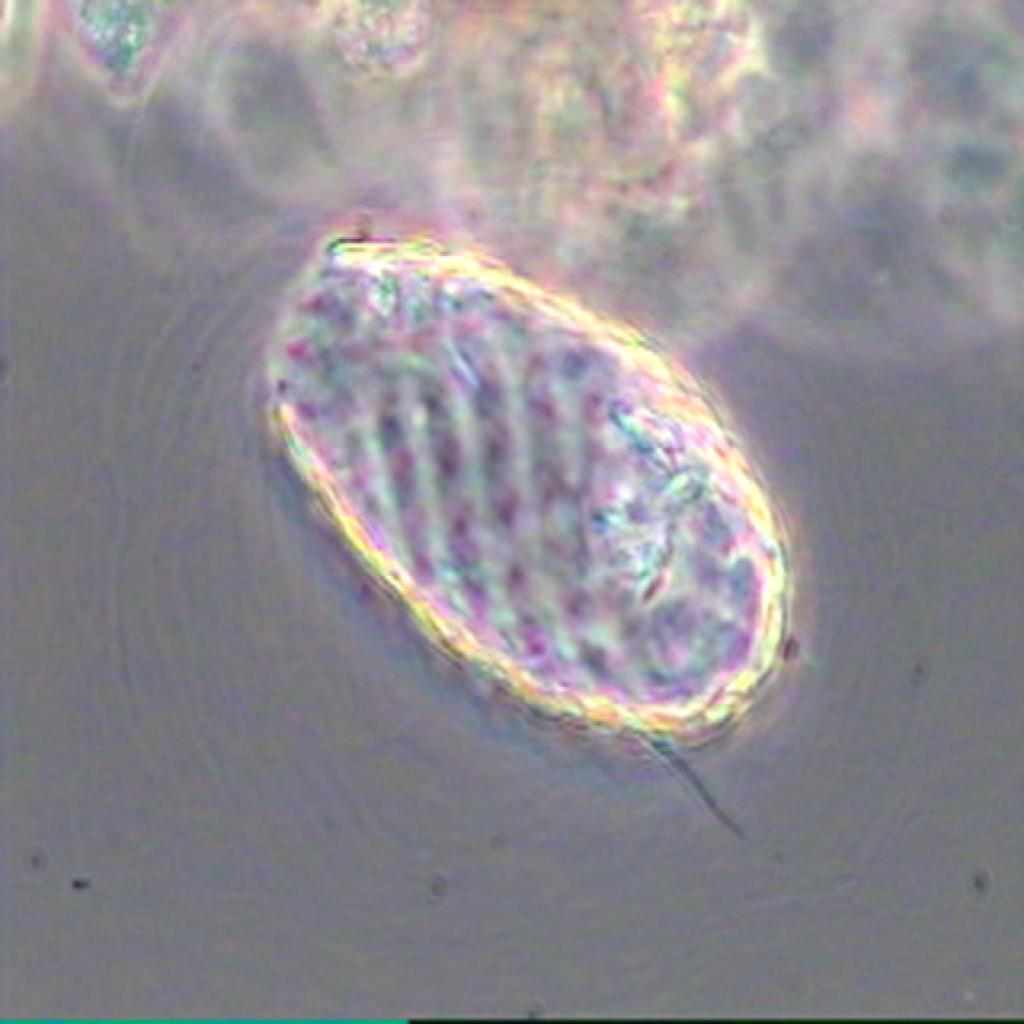Euglypha: (244, 184, 834, 846)
